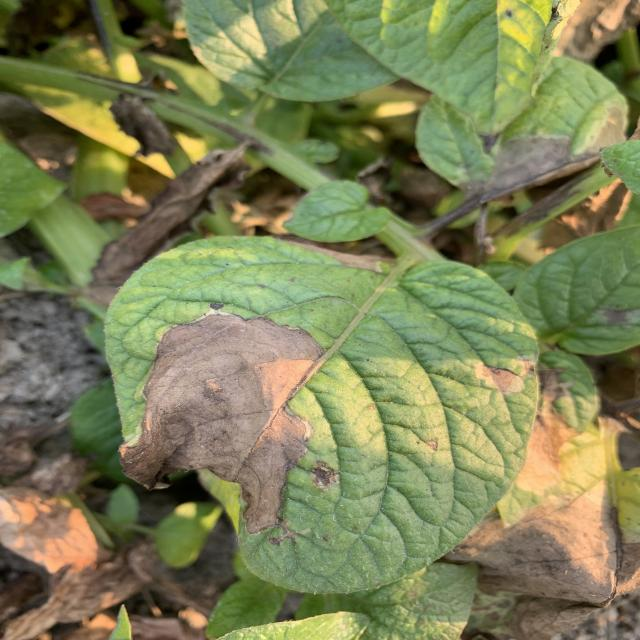lateblight: (120, 314, 322, 534), (475, 362, 525, 395), (520, 360, 535, 375)
